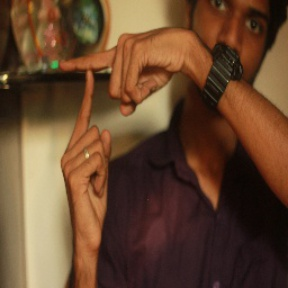T: (50, 24, 132, 165)
